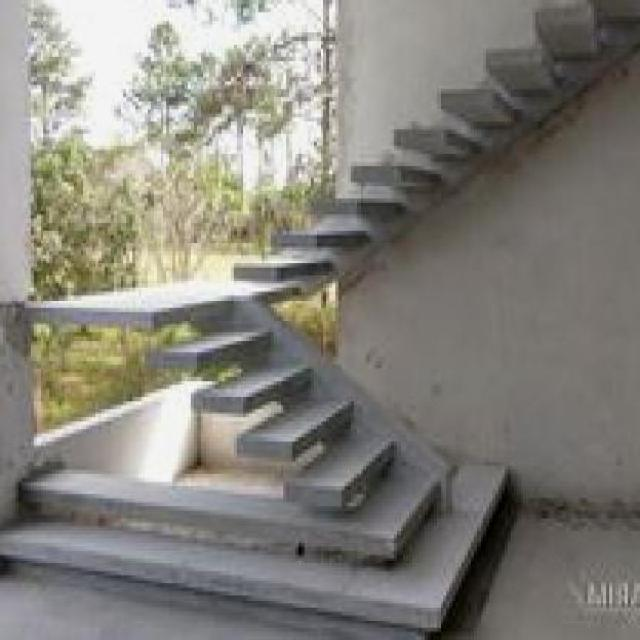stair: (25, 263, 548, 600)
